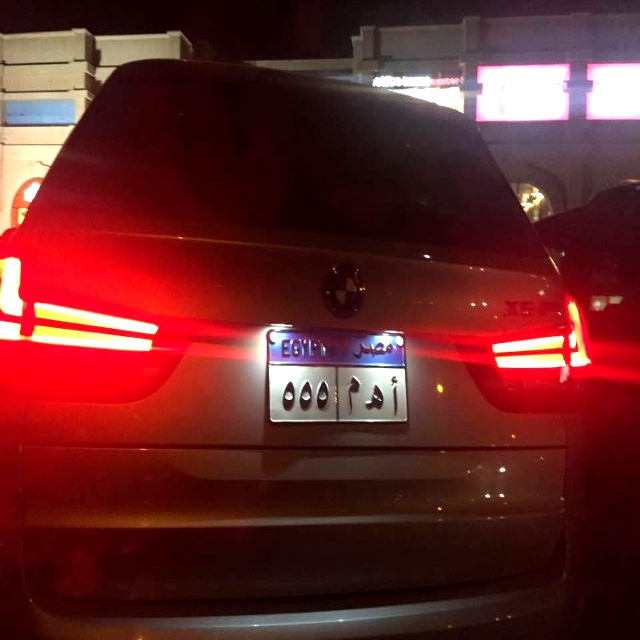License Plate: (265, 327, 411, 427)
